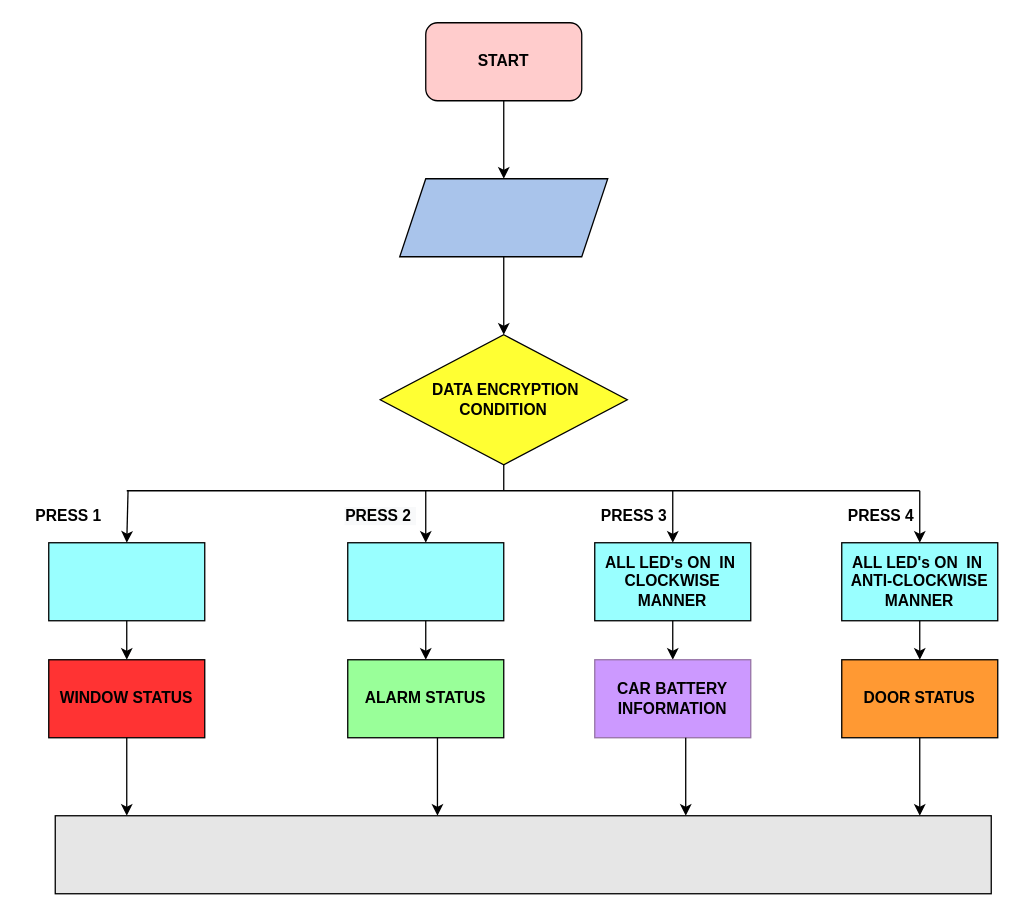
Some shapes in this 1020 by 916 pixel diagram are drawn without their labels. The centre of each missing label's shape, as x and y in pixels:
"ALL LED's OFF" goes at point (425, 581).
"ALL LED's ON" goes at point (126, 581).
"CAR STATUS DISPLAYED ON KEYFOB" goes at point (522, 854).
"SWITCH" goes at point (503, 217).
